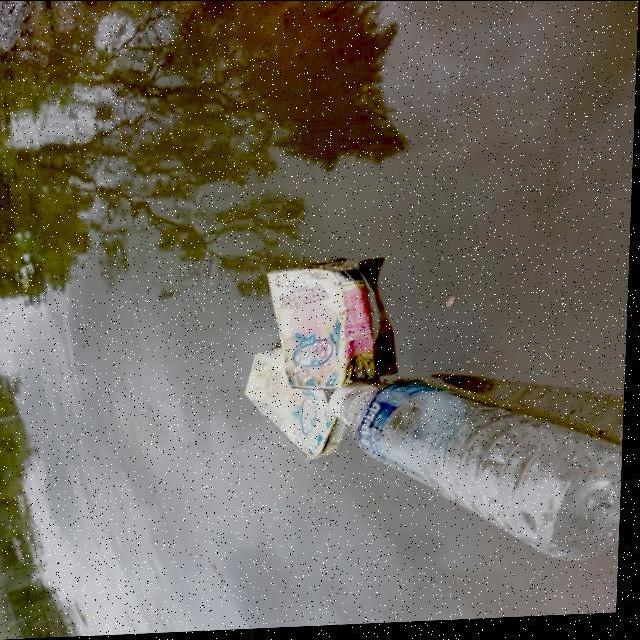Bottle: (335, 372, 624, 562)
Box: (263, 259, 383, 394), (245, 337, 358, 461)
